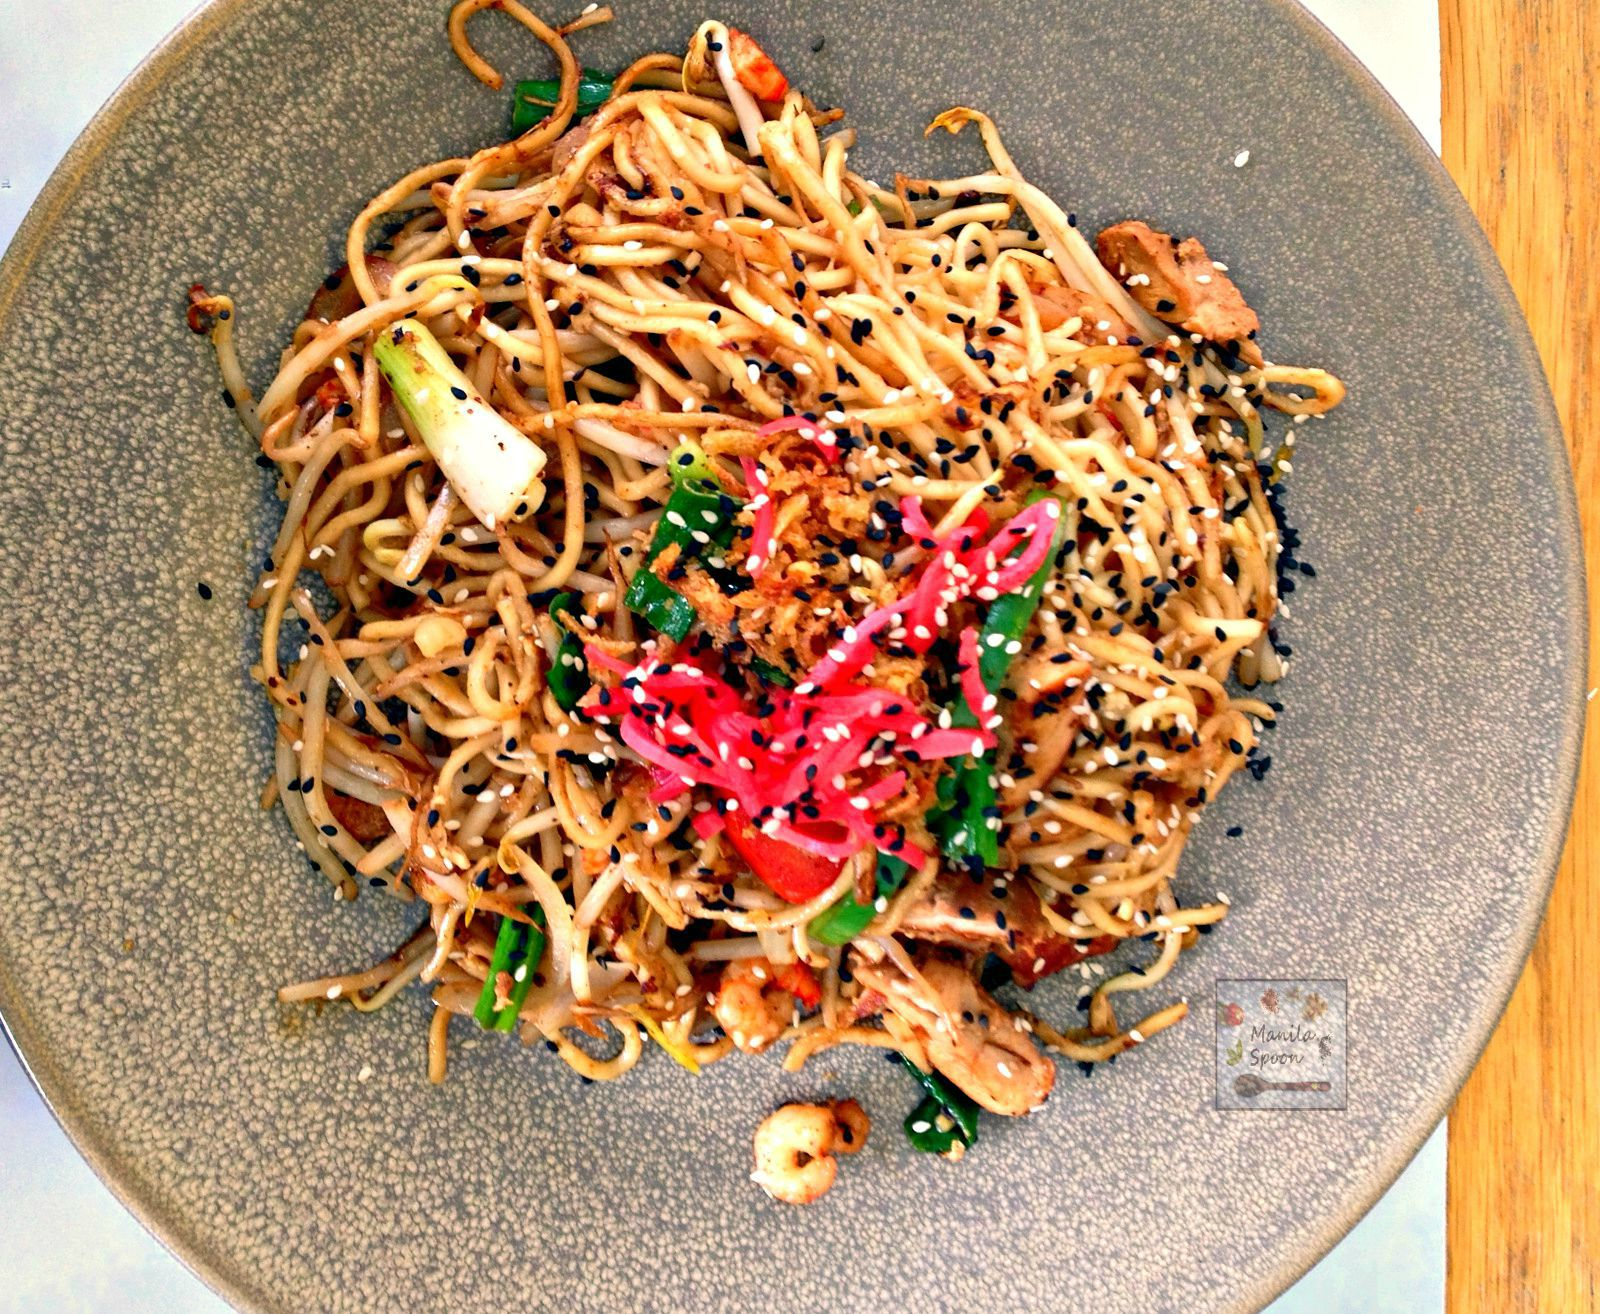Soba: (252, 82, 1320, 1103)
